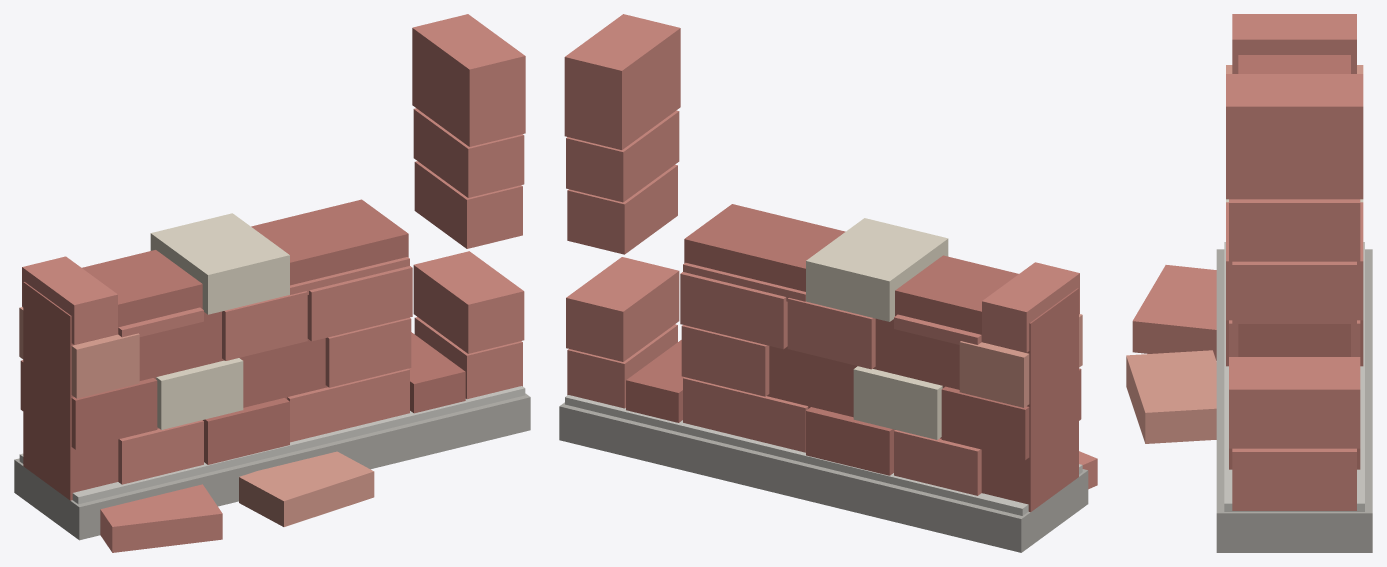
Rendered from wall_ruin_c.fbx.
3 renders of one model, left to right at view 1: azimuth 30°, elevation 25°; view 2: azimuth 150°, elevation 25°; view 3: azimuth 270°, elevation 25°, orthographic. The views are drawn at different scales.
Parts seen in each view (by area): view 1: EN_wall_ruin_c; view 2: EN_wall_ruin_c; view 3: EN_wall_ruin_c.
Boxes of the visible parts, x1,y1,x2,y2 form: EN_wall_ruin_c: (14,14,530,552); EN_wall_ruin_c: (559,14,1097,552); EN_wall_ruin_c: (1126,14,1372,552).
Size of the model in its own units: 200 by 157 by 78.93.
